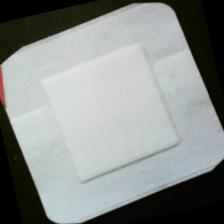Dressing: (1, 1, 224, 224)
Red_T: (1, 55, 15, 115)
